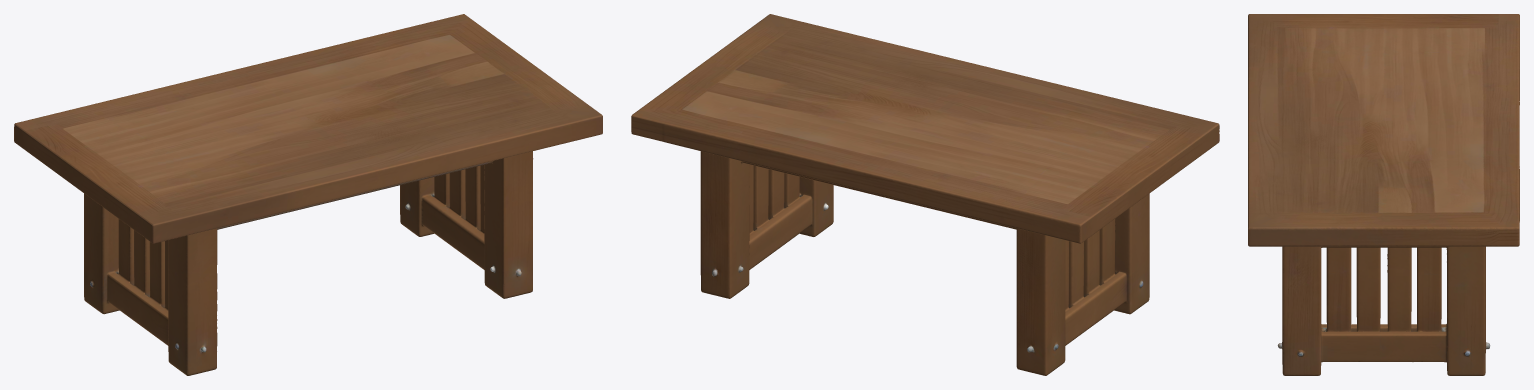
Rendered from detailed_realistic_model_largeoaktable_01.glb.
The picture shows the model from 3 angles, left to right: view 1: azimuth 30°, elevation 25°; view 2: azimuth 150°, elevation 25°; view 3: azimuth 270°, elevation 25°; orthographic projection. The views are drawn at different scales.
Parts seen in each view (by area): view 1: tripo_node_713b947f-d545-4f5e-bd88-89c0d17ea56a; view 2: tripo_node_713b947f-d545-4f5e-bd88-89c0d17ea56a; view 3: tripo_node_713b947f-d545-4f5e-bd88-89c0d17ea56a.
Boxes of the visible parts, bbox=[...] form: tripo_node_713b947f-d545-4f5e-bd88-89c0d17ea56a: bbox=[14, 14, 602, 375]; tripo_node_713b947f-d545-4f5e-bd88-89c0d17ea56a: bbox=[631, 14, 1219, 375]; tripo_node_713b947f-d545-4f5e-bd88-89c0d17ea56a: bbox=[1248, 14, 1519, 375].
Bounding box in the file's own units: 1 × 0.3778 × 0.5358.
1 material, 1 textured.
